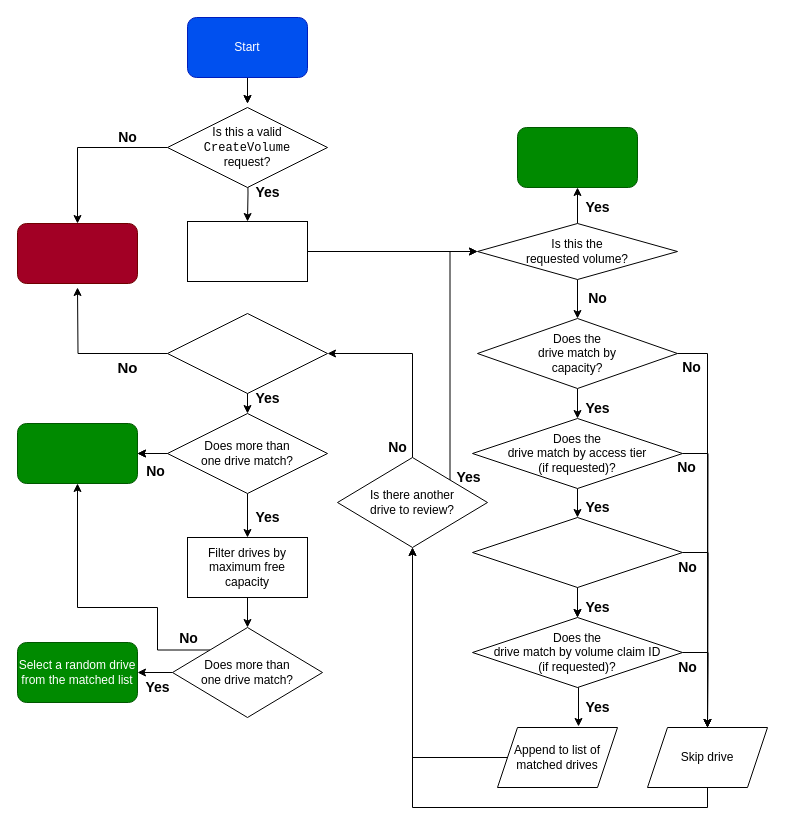
The diagram is 785 pixels wide and 833 high, and some of its shapes have lost their labels. The shapes that lost their labels are listed below. From the top down, each one's box as (x1, y1, x2, y2) in pixels, then its label:
(516, 126, 638, 188): Return the drive
(16, 222, 138, 284): Return Error
(186, 220, 308, 282): Loop each DirectPVDrive custom resource definition (CRD)
(166, 312, 328, 394): Does the list contain any drives?
(16, 422, 138, 484): Return the matched drive
(472, 516, 682, 588): Does the drive match by topology restraints (if requested)?
